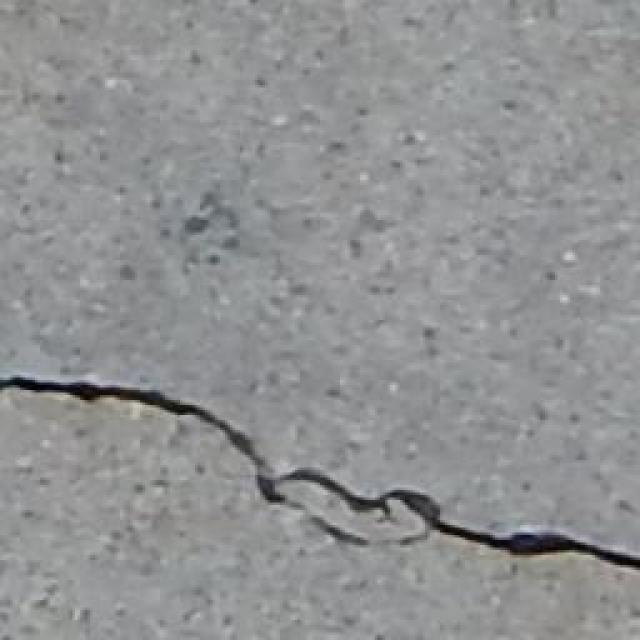concrete-crack: (0, 372, 640, 579)
